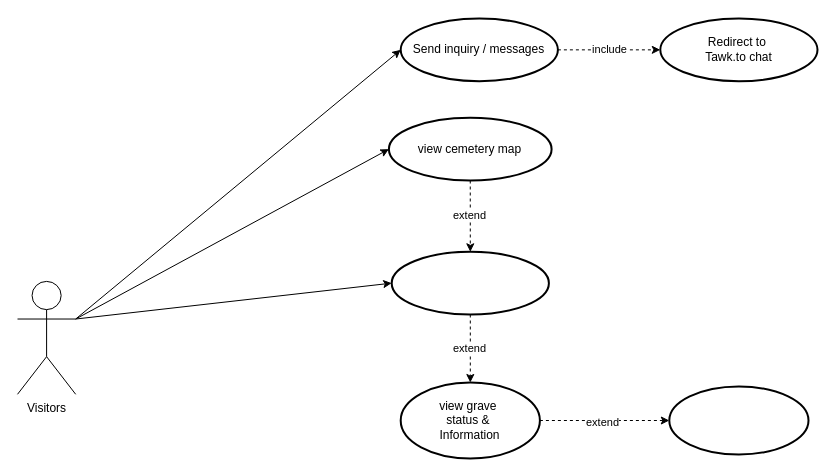
Image size: 836x476. Some labels were removed from this diagram. Each missing label, with the centre of its shape:
"get grave direction" goes at point (738, 420).
"search deceased person" goes at point (469, 282).
